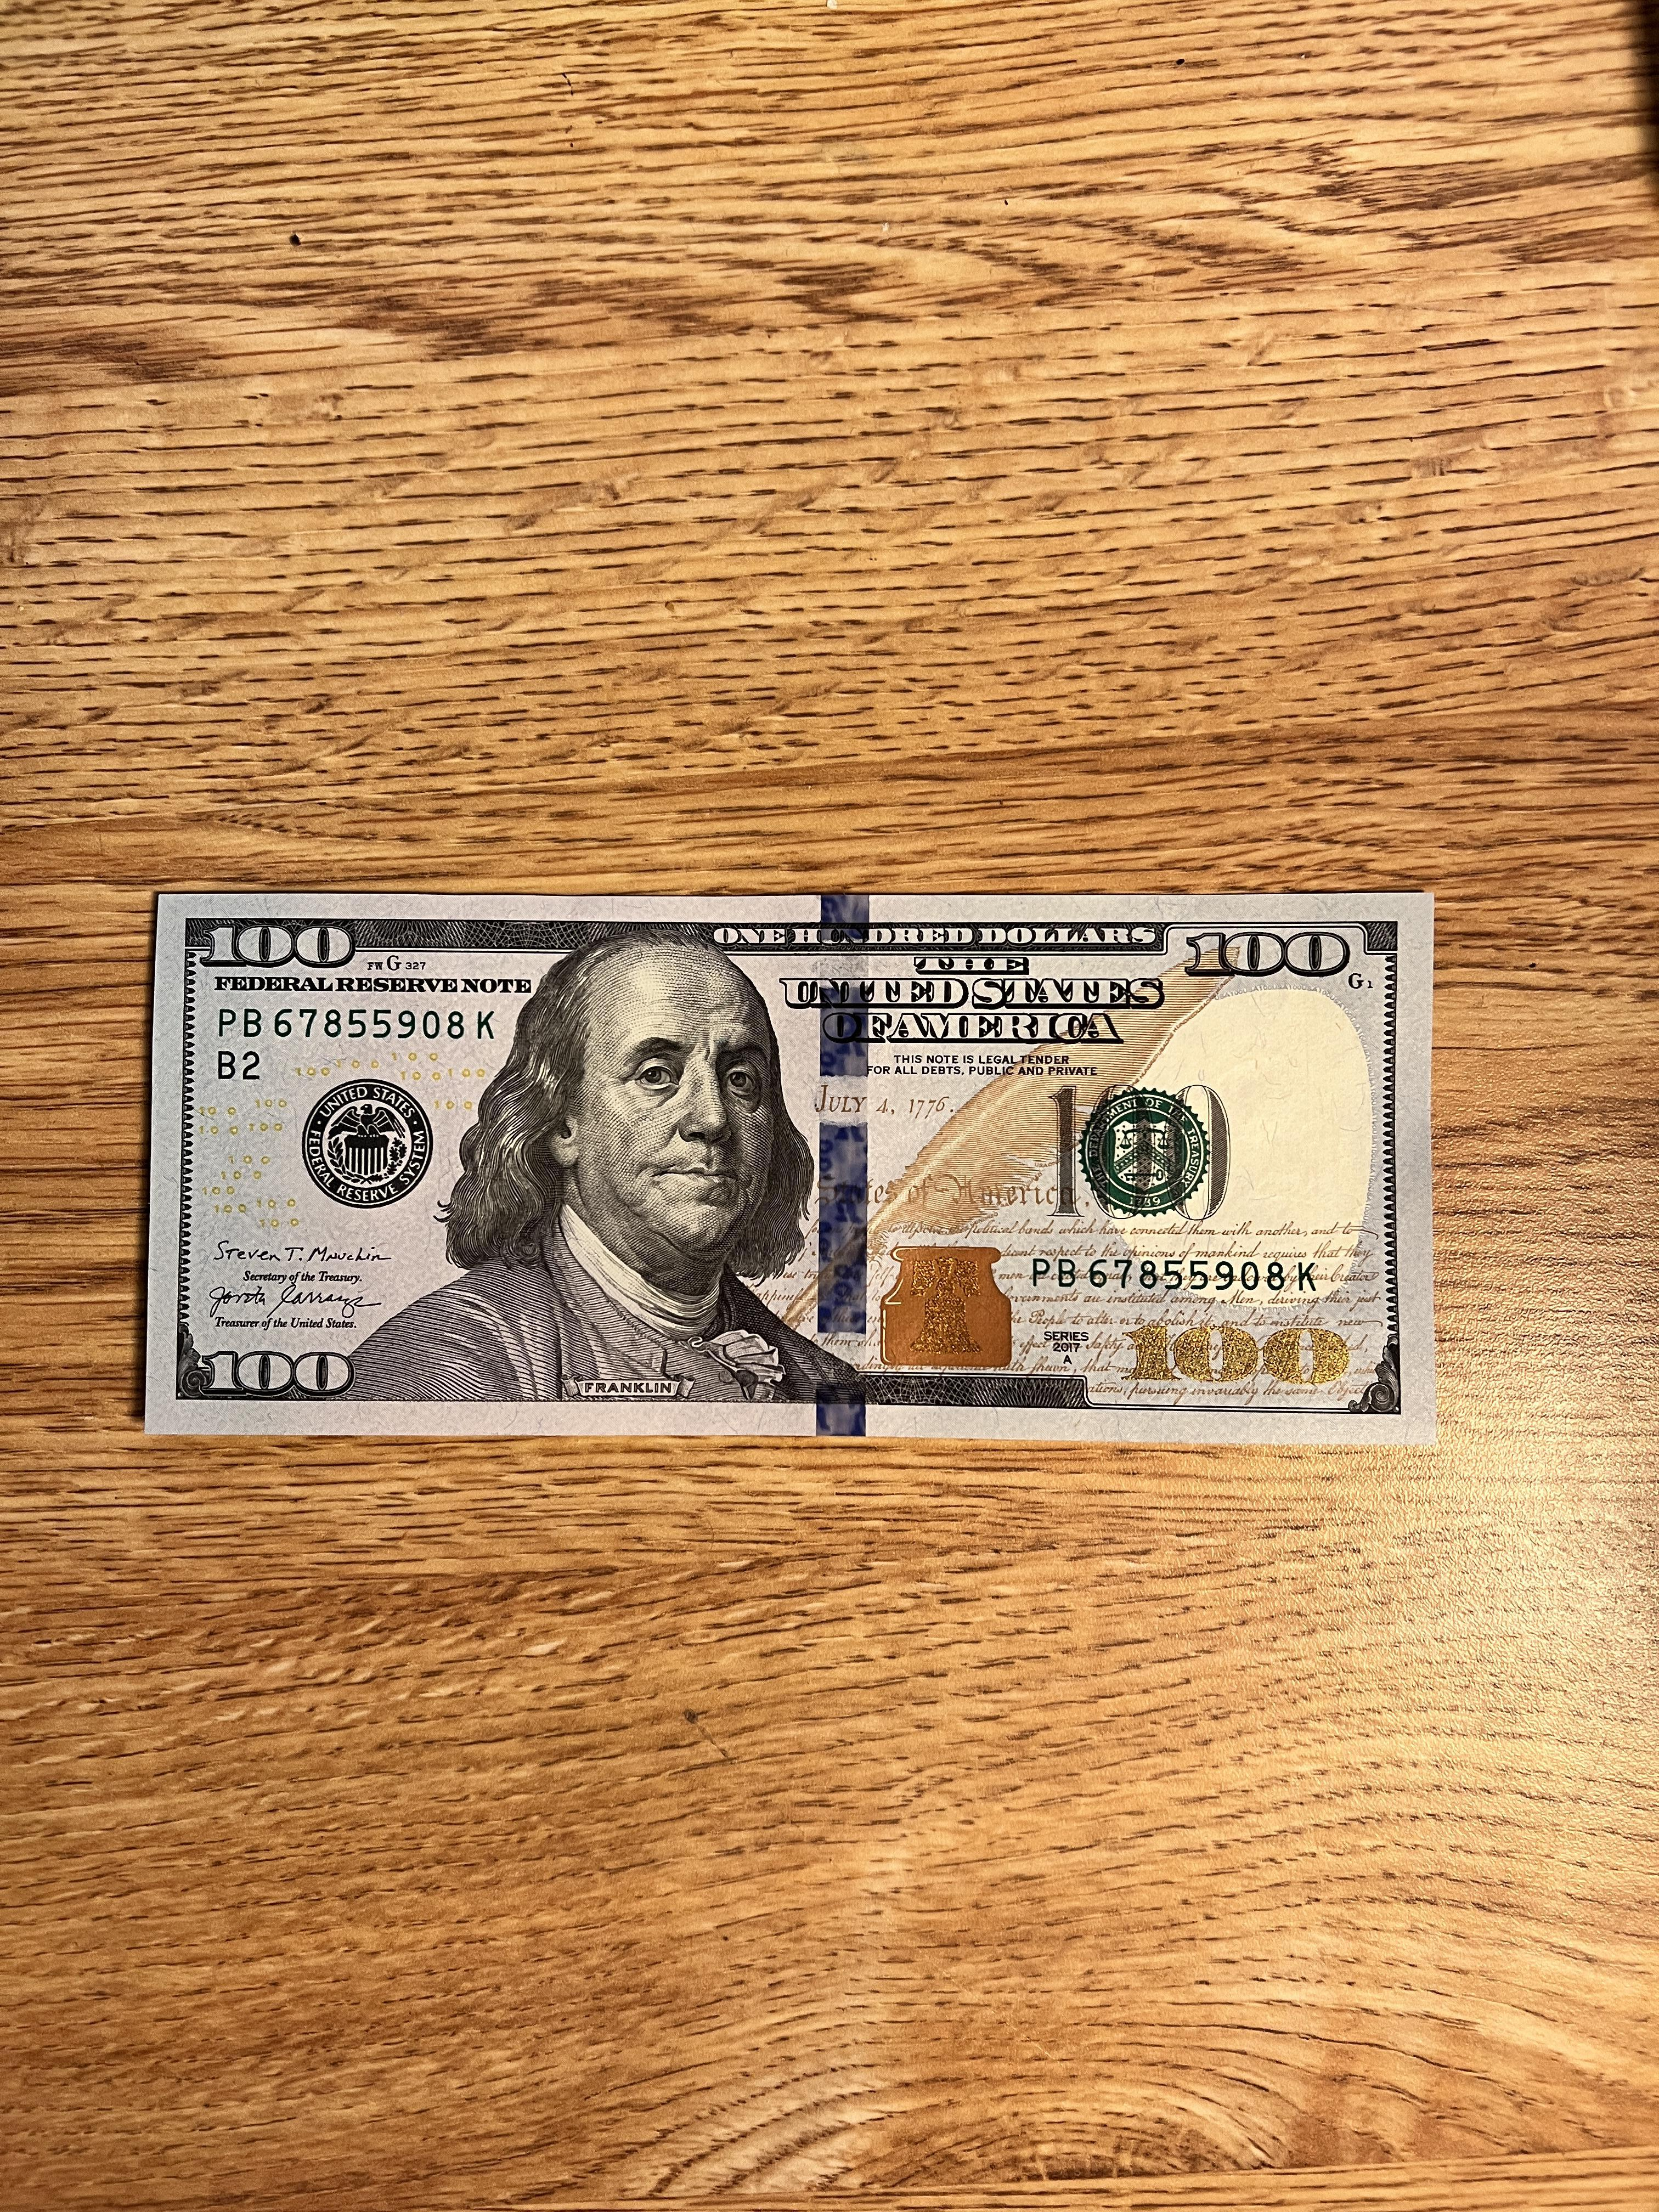HundredBill: (132, 873, 1446, 1451)
